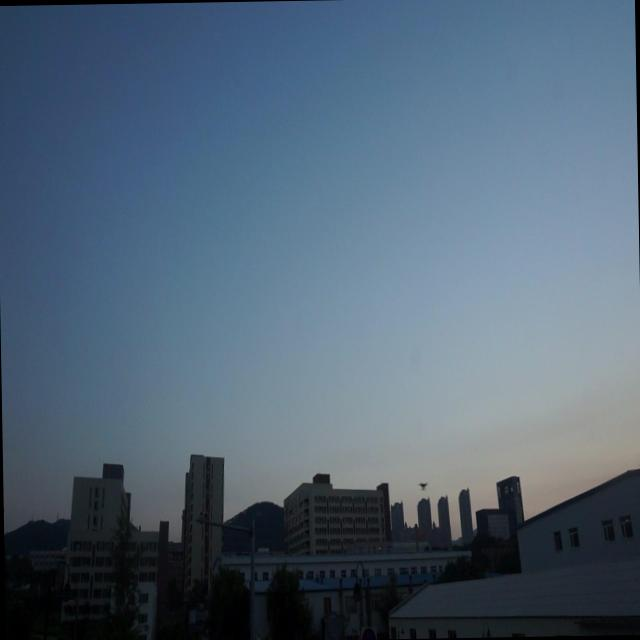drone: (416, 477, 430, 492)
